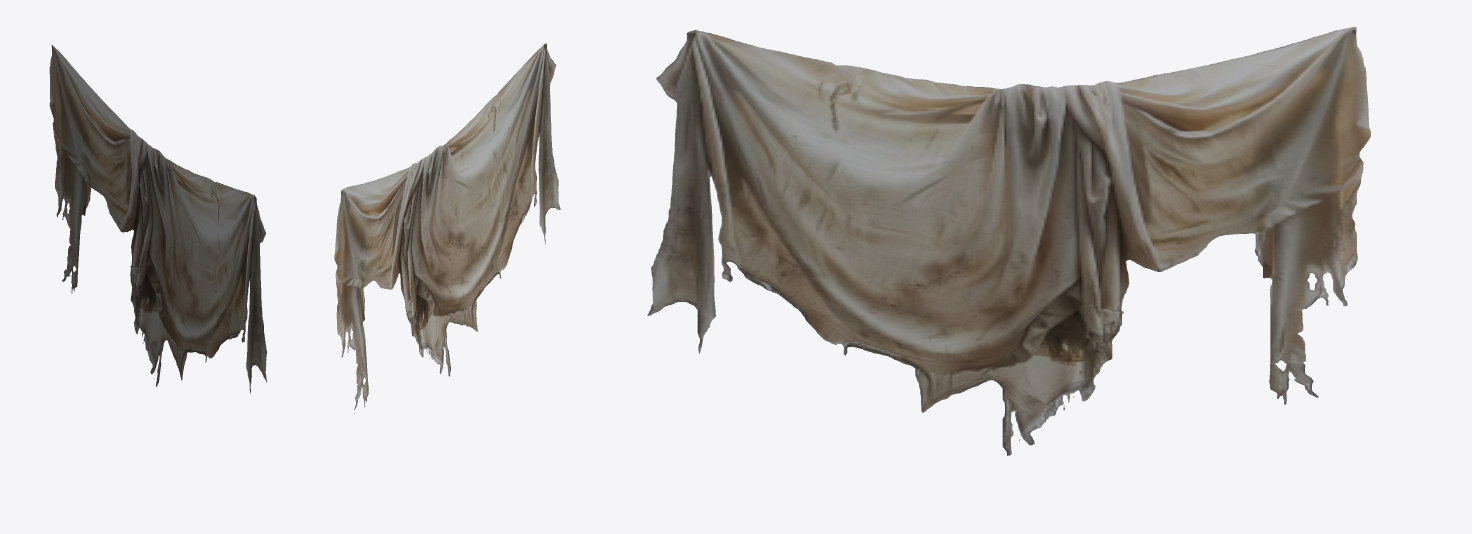
The model's file is MOD_Foliage_Cloth_02.fbx.
The picture shows the model from 3 angles, left to right: view 1: azimuth 30°, elevation 25°; view 2: azimuth 150°, elevation 25°; view 3: azimuth 270°, elevation 25°; orthographic projection. The views are drawn at different scales.
Visible parts, largest first — view 1: MOD_Foliage_Cloth_02; view 2: MOD_Foliage_Cloth_02; view 3: MOD_Foliage_Cloth_02.
Boxes of the visible parts, x1,y1,x2,y2 form: MOD_Foliage_Cloth_02: (49, 45, 266, 394); MOD_Foliage_Cloth_02: (334, 43, 560, 409); MOD_Foliage_Cloth_02: (647, 27, 1370, 455).
Bounding box in the file's own units: 25.03 × 319 × 482.
